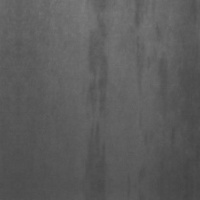inclusion: (79, 4, 110, 183), (124, 3, 153, 104), (151, 51, 174, 121)
